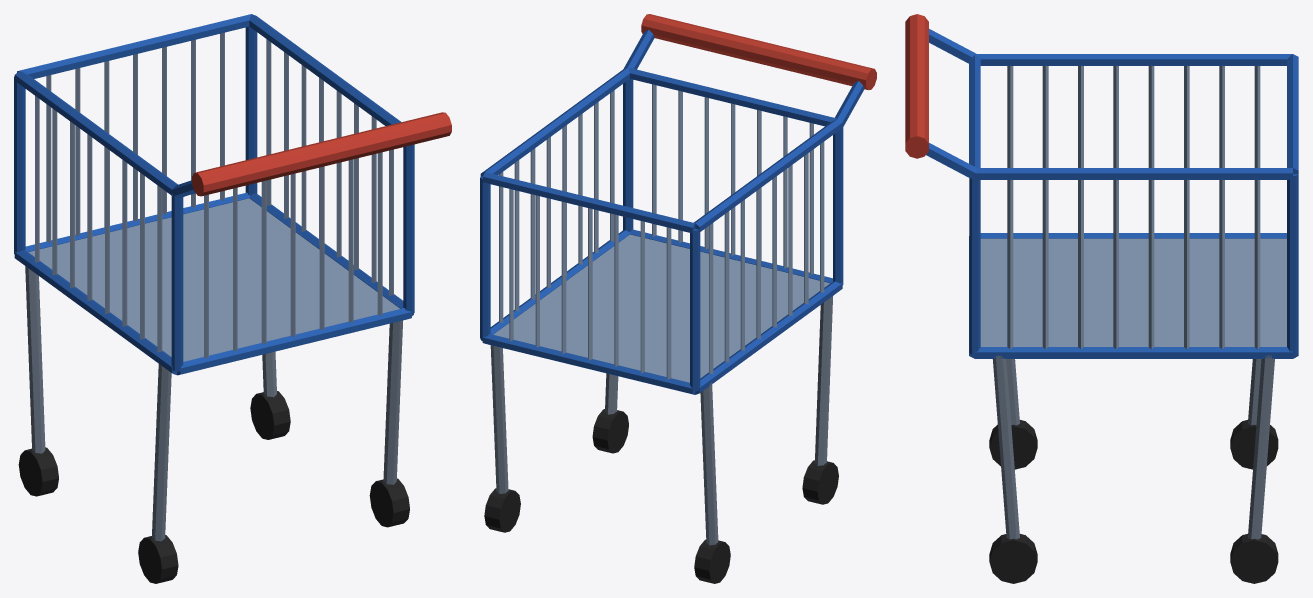
File: trolley.glb
3 views of the same model, side by side, from view 1: azimuth 30°, elevation 25°; view 2: azimuth 150°, elevation 25°; view 3: azimuth 270°, elevation 25° (orthographic). The views are drawn at different scales.
Parts seen in each view (by area): view 1: trolley; view 2: trolley; view 3: trolley.
Boxes of the visible parts, left/top/right/bottom form: trolley: left=14, top=14, right=451, bottom=583; trolley: left=480, top=14, right=876, bottom=583; trolley: left=905, top=14, right=1298, bottom=583.
Size of the model in its own units: 0.6 by 1.03 by 0.8168.
